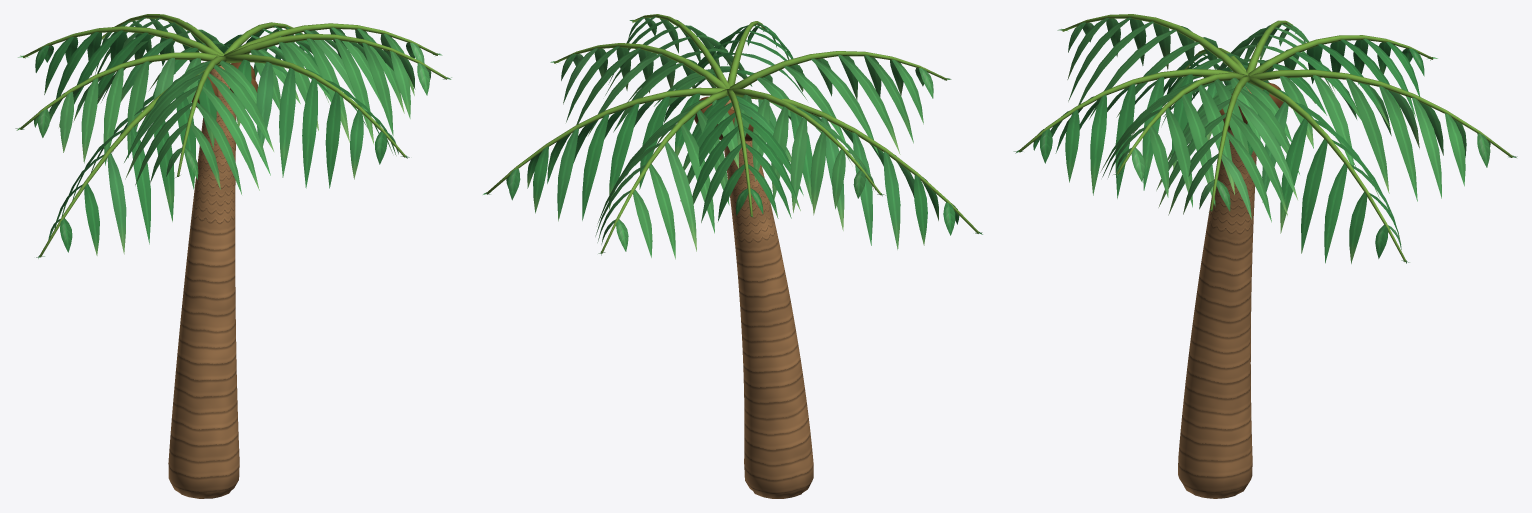
File: palm_a.glb
The picture shows the model from 3 angles, left to right: view 1: azimuth 30°, elevation 25°; view 2: azimuth 150°, elevation 25°; view 3: azimuth 270°, elevation 25°; orthographic projection. The views are drawn at different scales.
Parts seen in each view (by area): view 1: Crown_leaf, Trunk; view 2: Crown_leaf, Trunk; view 3: Crown_leaf, Trunk.
Boxes of the visible parts, left/top/right/bottom form: Crown_leaf: left=15, top=14, right=451, bottom=258; Trunk: left=168, top=65, right=239, bottom=498; Crown_leaf: left=483, top=14, right=982, bottom=259; Trunk: left=724, top=99, right=813, bottom=498; Crown_leaf: left=1013, top=14, right=1517, bottom=263; Trunk: left=1178, top=86, right=1256, bottom=498.
Size of the model in its own units: 4.94 by 4.88 by 4.86.
Materials: 1 (1 with a texture image).
